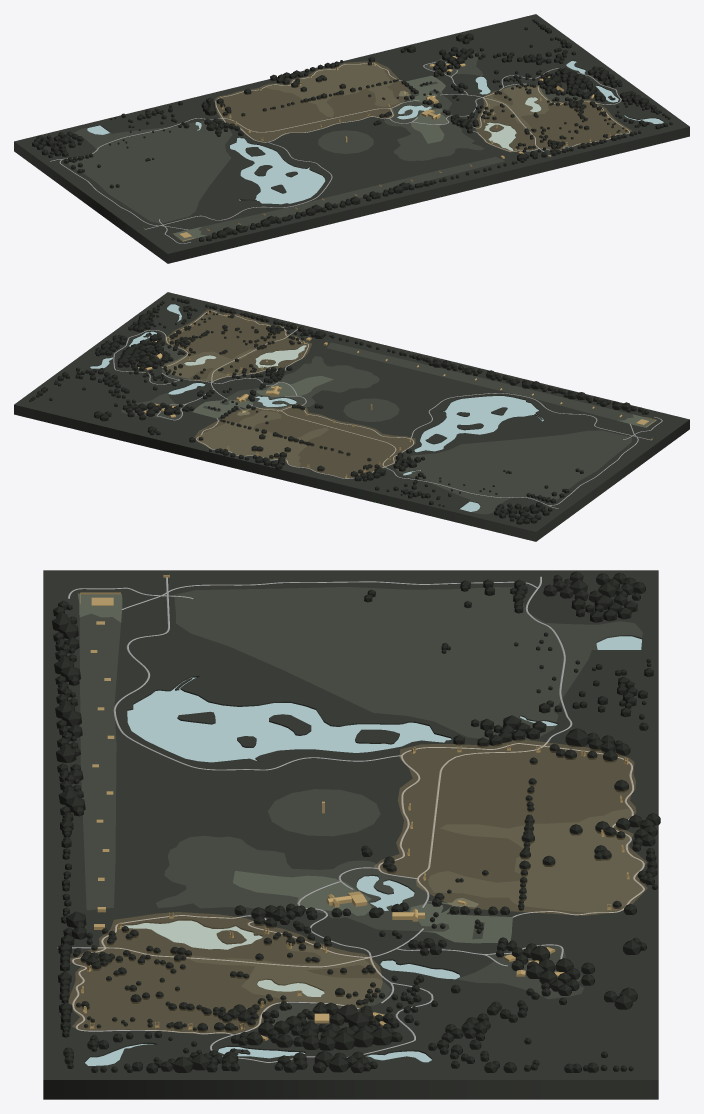
The model's file is map.glb.
The picture shows the model from 3 angles, top to bottom: view 1: azimuth 30°, elevation 25°; view 2: azimuth 150°, elevation 25°; view 3: azimuth 270°, elevation 25°; orthographic projection. The views are drawn at different scales.
Parts seen in each view (by area): view 1: ground_2, trees, north course, south course, water, BézierCurve.002, BézierCurve.001; view 2: ground_2, trees, north course, south course, water, BézierCurve.001, BézierCurve.004; view 3: ground_2, trees, north course, south course, water, BézierCurve.002, BézierCurve.001, BézierCurve.004, BézierCurve, BézierCurve.007.
Part boxes in pixels (x1,y1,x2,y2): ground_2: (14, 14, 689, 263); trees: (32, 19, 672, 241); north course: (215, 62, 410, 141); south course: (476, 86, 630, 151); water: (87, 61, 663, 204); BézierCurve.002: (215, 63, 402, 142); BézierCurve.001: (50, 100, 418, 161); ground_2: (14, 292, 689, 541); trees: (29, 297, 648, 524); north course: (195, 406, 414, 477); south course: (161, 310, 311, 380); water: (90, 304, 543, 511); BézierCurve.001: (249, 404, 558, 508); BézierCurve.004: (113, 330, 297, 395); ground_2: (43, 570, 658, 1099); trees: (52, 571, 660, 1073); north course: (374, 740, 646, 914); south course: (69, 912, 381, 1033); water: (85, 636, 641, 1065); BézierCurve.002: (378, 743, 644, 917); BézierCurve.001: (417, 576, 572, 907); BézierCurve.004: (210, 881, 433, 1062); BézierCurve: (113, 577, 401, 770); BézierCurve.007: (72, 915, 369, 1034).
Size of the model in its own units: 20.55 by 0.6421 by 10.52.
